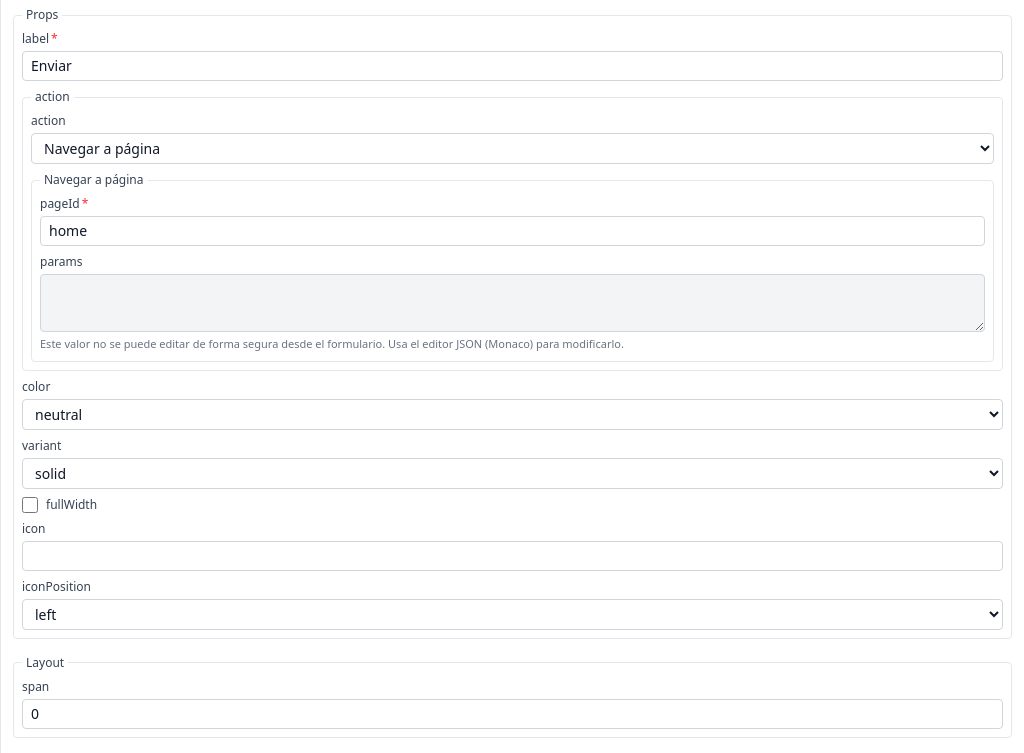
Test: LayoutCanvasPropertiesPanel commit feedback (T9) › keeps the user-chosen variant visible and shows an error banner when the commit is rejected
Select "Ejecutar operación" in the dropdown labelled "action" at (512, 148), box [31,133,994,164]
(page scrolled)
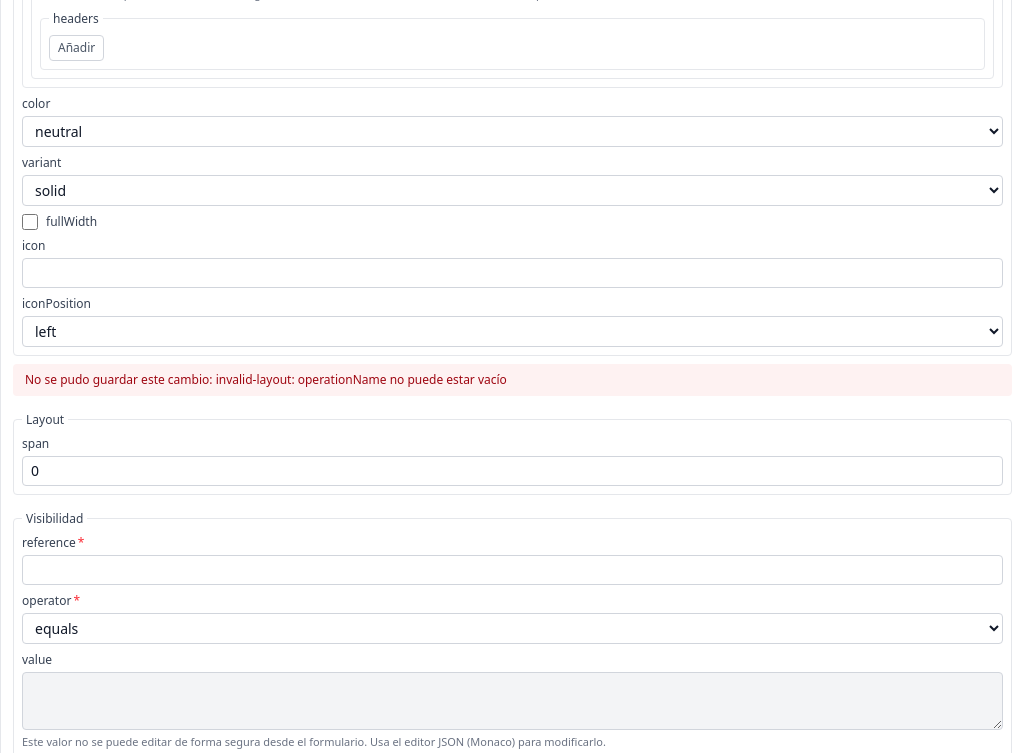
Expected: the message shows "invalid-layout", [216,370,291,388]
Expected: the message shows "operationName no puede estar vacío", [298,370,507,388]
